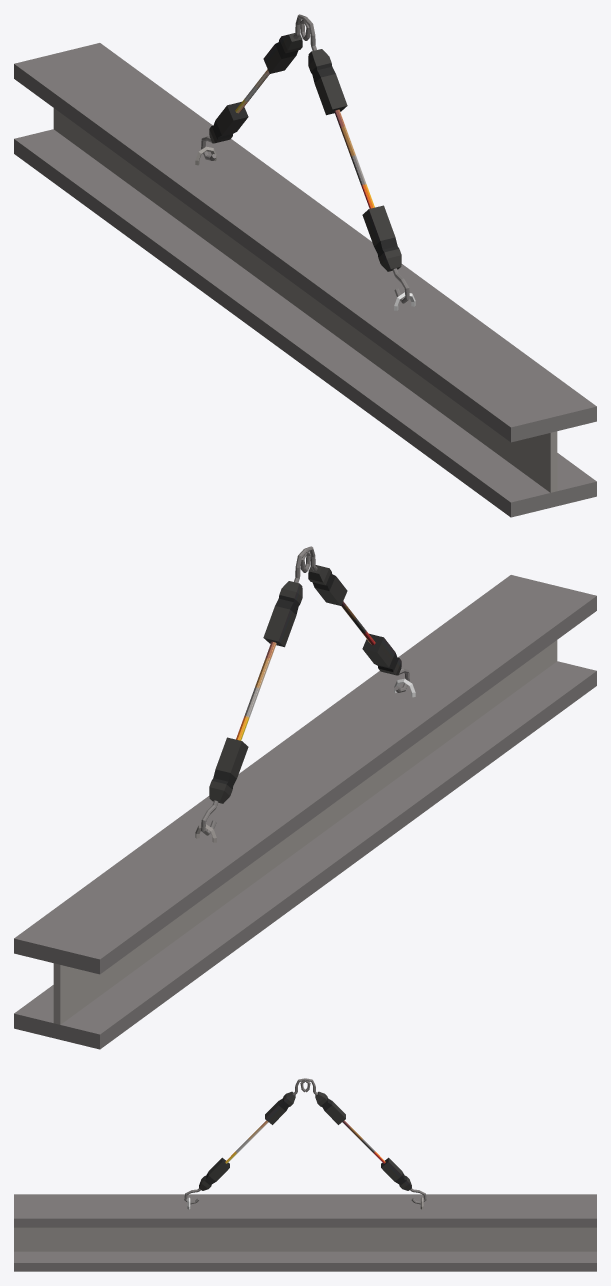
The model's file is balka2.fbx.
3 views of the same model, one above another, from view 1: azimuth 30°, elevation 25°; view 2: azimuth 150°, elevation 25°; view 3: azimuth 270°, elevation 25° (orthographic). The views are drawn at different scales.
Visible parts, largest first — view 1: Balka, Kruk, Kruk.001; view 2: Balka, Kruk.001, Kruk; view 3: Balka, Kruk, Kruk.001.
Part boxes in pixels (box(x1,y1,x2,y2)): Balka: box(14, 43, 596, 517); Kruk: box(300, 17, 409, 303); Kruk.001: box(201, 14, 310, 160); Balka: box(14, 575, 596, 1049); Kruk.001: box(201, 549, 310, 835); Kruk: box(300, 546, 409, 692); Balka: box(14, 1194, 596, 1271); Kruk: box(184, 1078, 310, 1204); Kruk.001: box(300, 1078, 426, 1204).
Bounding box in the file's own units: 200 × 685 × 2000.
